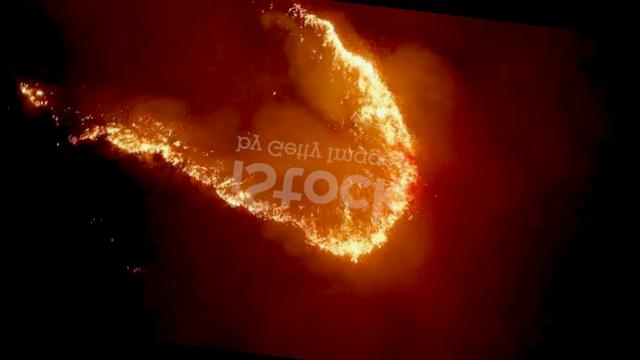fire: (156, 129, 432, 268), (14, 90, 158, 154), (339, 63, 415, 153), (284, 11, 376, 60)
